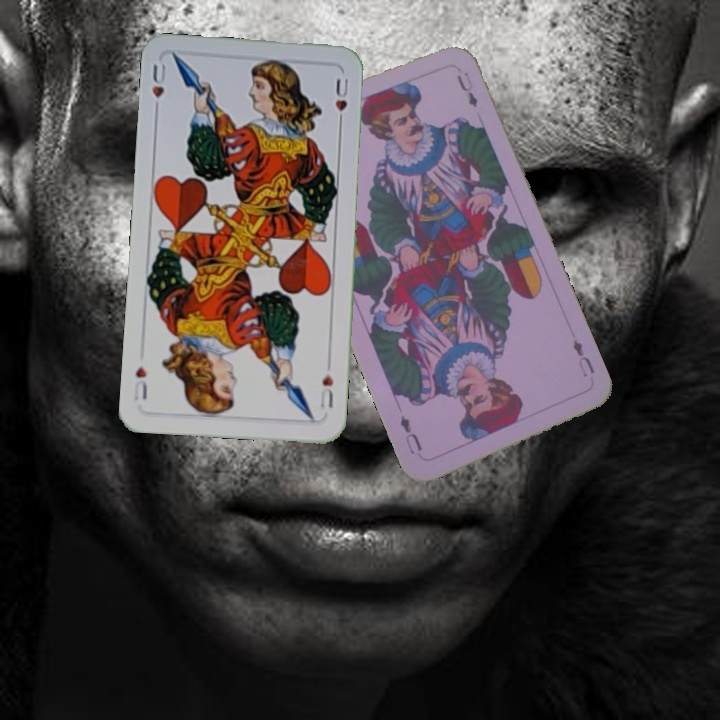EU: (568, 335, 597, 380)
HU: (148, 59, 168, 117), (316, 370, 336, 411)
